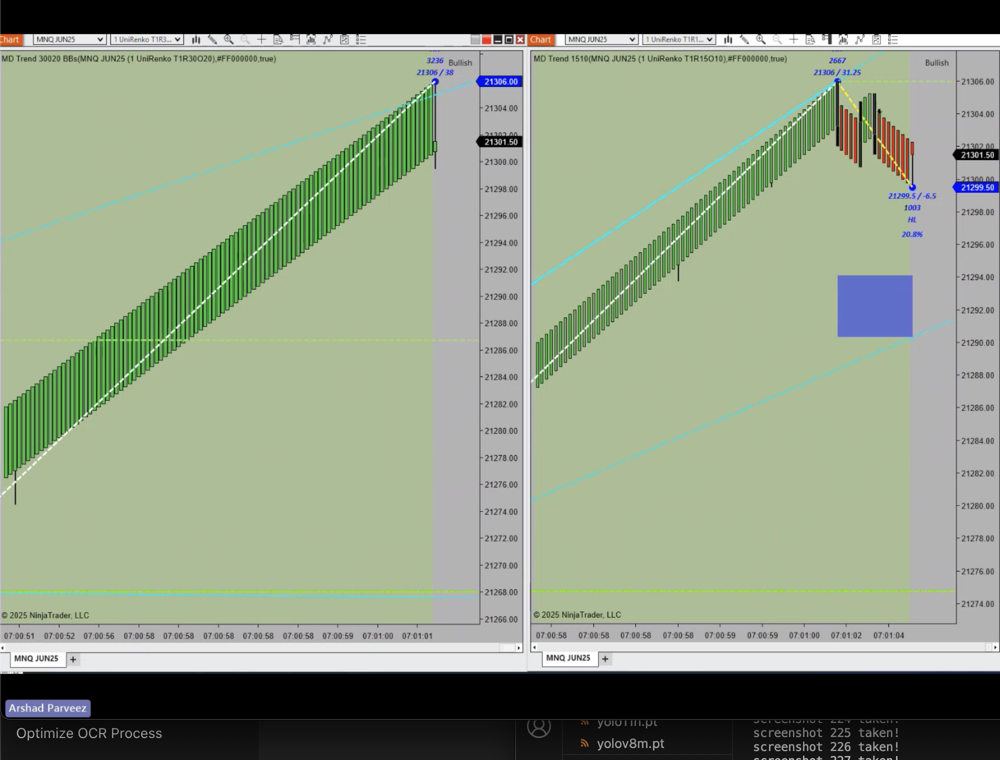HL: (901, 211, 922, 230)
